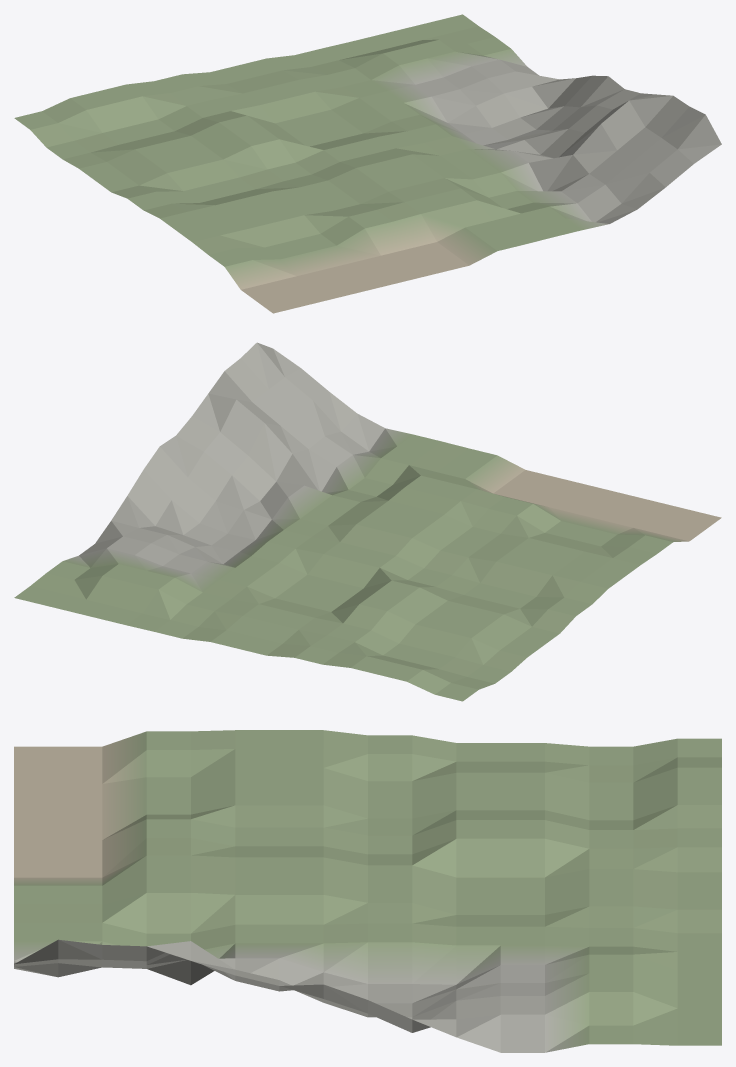
The picture shows the model from 3 angles, top to bottom: view 1: azimuth 30°, elevation 25°; view 2: azimuth 150°, elevation 25°; view 3: azimuth 270°, elevation 25°; orthographic projection. The views are drawn at different scales.
Bounding box in the file's own units: 32 × 6.01 × 32.
